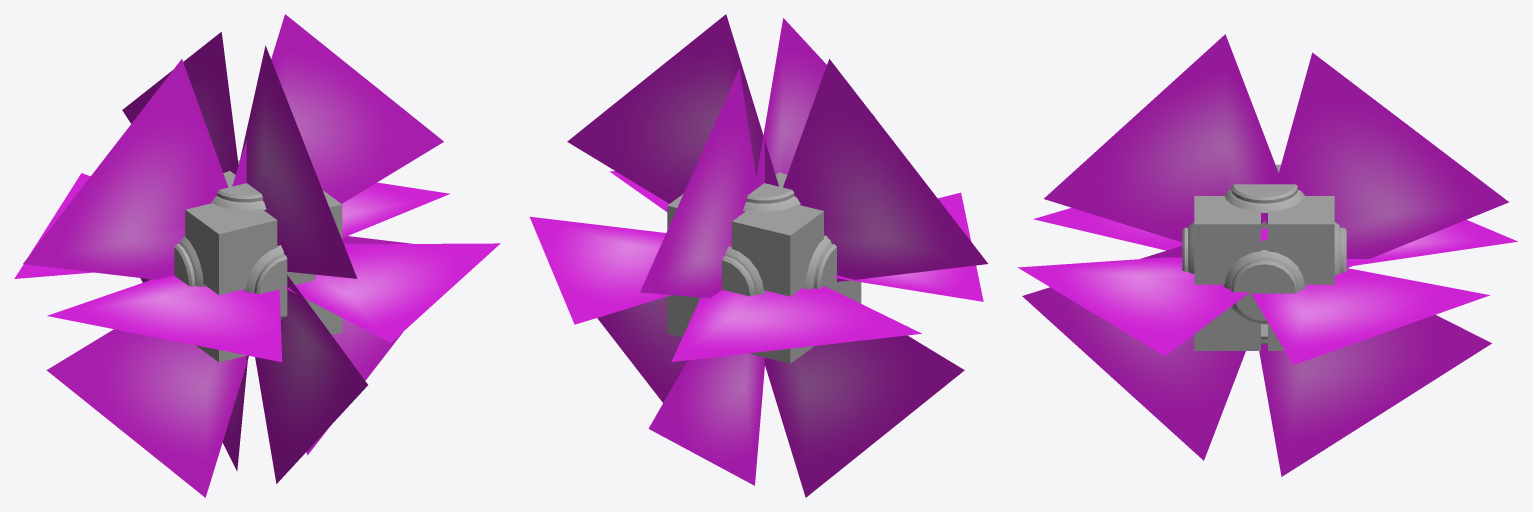
Rendered from Perfect_Distance_Box.fbx.
The picture shows the model from 3 angles, left to right: view 1: azimuth 30°, elevation 25°; view 2: azimuth 150°, elevation 25°; view 3: azimuth 270°, elevation 25°; orthographic projection.
Visible parts, largest first — view 1: box_glow, Box_sides, Box_Buttons, Box_Button_Frames; view 2: box_glow, Box_sides, Box_Buttons, Box_Button_Frames; view 3: box_glow, Box_sides, Box_Buttons, Box_Button_Frames.
Boxes of the visible parts, x1=… form: box_glow: x1=14, y1=14, x2=500, y2=497; Box_sides: x1=148, y1=160, x2=342, y2=362; Box_Buttons: x1=174, y1=171, x2=314, y2=317; Box_Button_Frames: x1=179, y1=196, x2=315, y2=319; box_glow: x1=530, y1=14, x2=987, y2=497; Box_sides: x1=667, y1=194, x2=861, y2=363; Box_Buttons: x1=699, y1=172, x2=849, y2=298; Box_Button_Frames: x1=725, y1=196, x2=831, y2=294; box_glow: x1=1017, y1=34, x2=1517, y2=476; Box_sides: x1=1194, y1=164, x2=1334, y2=350; Box_Buttons: x1=1182, y1=172, x2=1346, y2=344; Box_Button_Frames: x1=1188, y1=190, x2=1340, y2=339.
Bounding box in the file's own units: 76.12 × 76.13 × 75.17.
